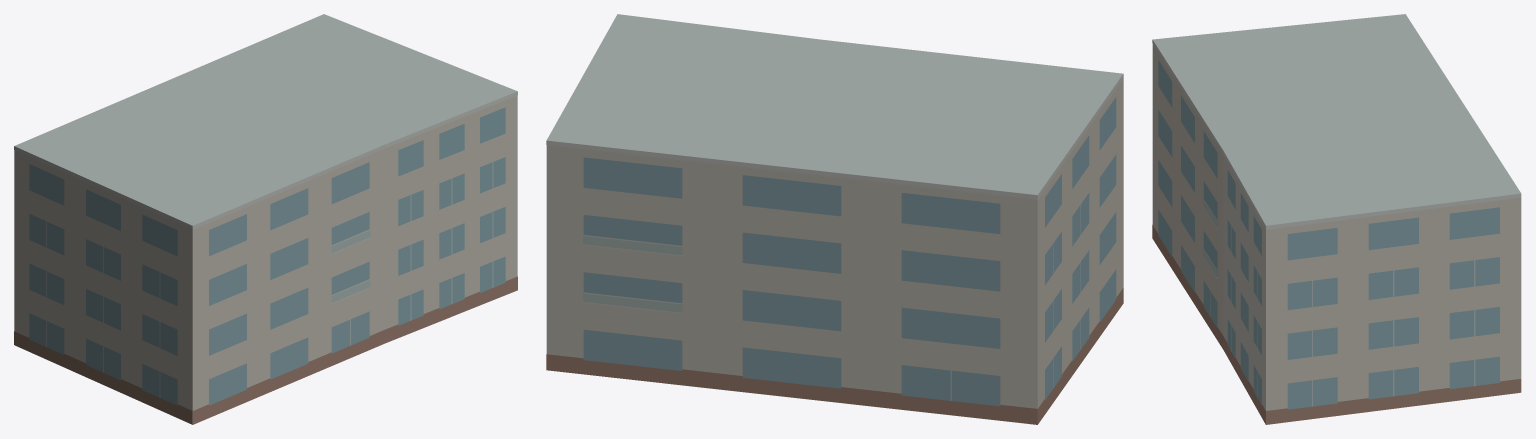
The model's file is survey-upis-32862334.glb.
3 renders of one model, left to right at view 1: azimuth 30°, elevation 25°; view 2: azimuth 150°, elevation 25°; view 3: azimuth 270°, elevation 25°, orthographic. The views are drawn at different scales.
Visible parts, largest first — view 1: survey-upis-32862334.tmp; view 2: survey-upis-32862334.tmp; view 3: survey-upis-32862334.tmp.
Boxes of the visible parts, x1,y1,x2,y2 form: survey-upis-32862334.tmp: (14, 14, 517, 424); survey-upis-32862334.tmp: (546, 14, 1123, 424); survey-upis-32862334.tmp: (1152, 14, 1521, 424).
Size of the model in its own units: 27.61 by 12.1 by 20.32.
